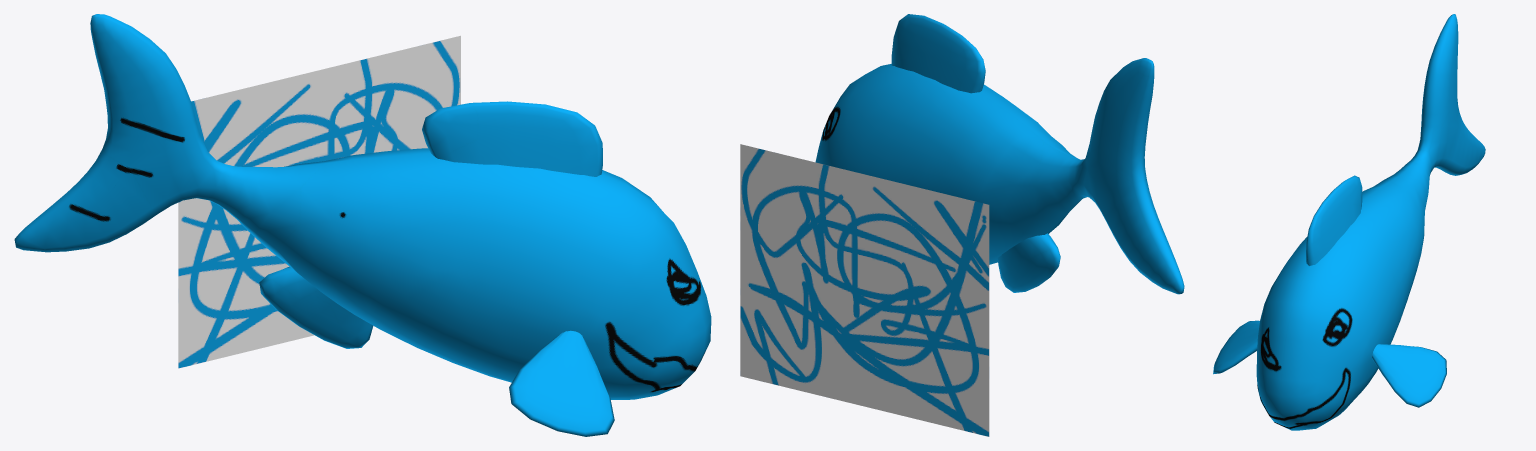
The model's file is fish.fbx.
3 views of the same model, side by side, from view 1: azimuth 30°, elevation 25°; view 2: azimuth 150°, elevation 25°; view 3: azimuth 270°, elevation 25° (orthographic). The views are drawn at different scales.
Parts seen in each view (by area): view 1: root (×2); view 2: root (×2); view 3: root.
Boxes of the visible parts, bbox=[...] form: root (×2): bbox=[14, 14, 711, 436]; root (×2): bbox=[740, 14, 1184, 436]; root: bbox=[1213, 14, 1485, 430].
Bounding box in the file's own units: 0.5757 × 0.424 × 0.4147.
2 materials, 2 textured.
